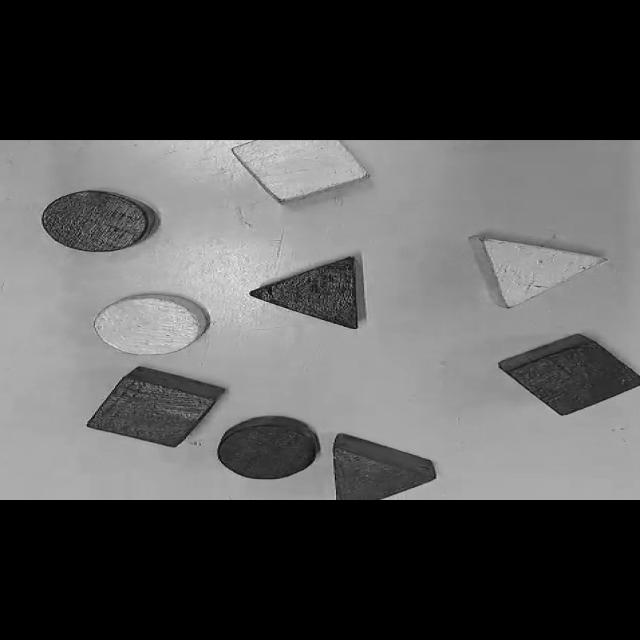bcircle: (218, 416, 320, 479)
bcube: (499, 334, 640, 415)
btriangle: (250, 257, 362, 329)
rcircle: (43, 190, 154, 252)
rcube: (85, 367, 226, 448)
rtriangle: (330, 432, 438, 498)
ycircle: (93, 294, 207, 355)
ycube: (230, 139, 370, 205)
ytriangle: (468, 235, 608, 309)
